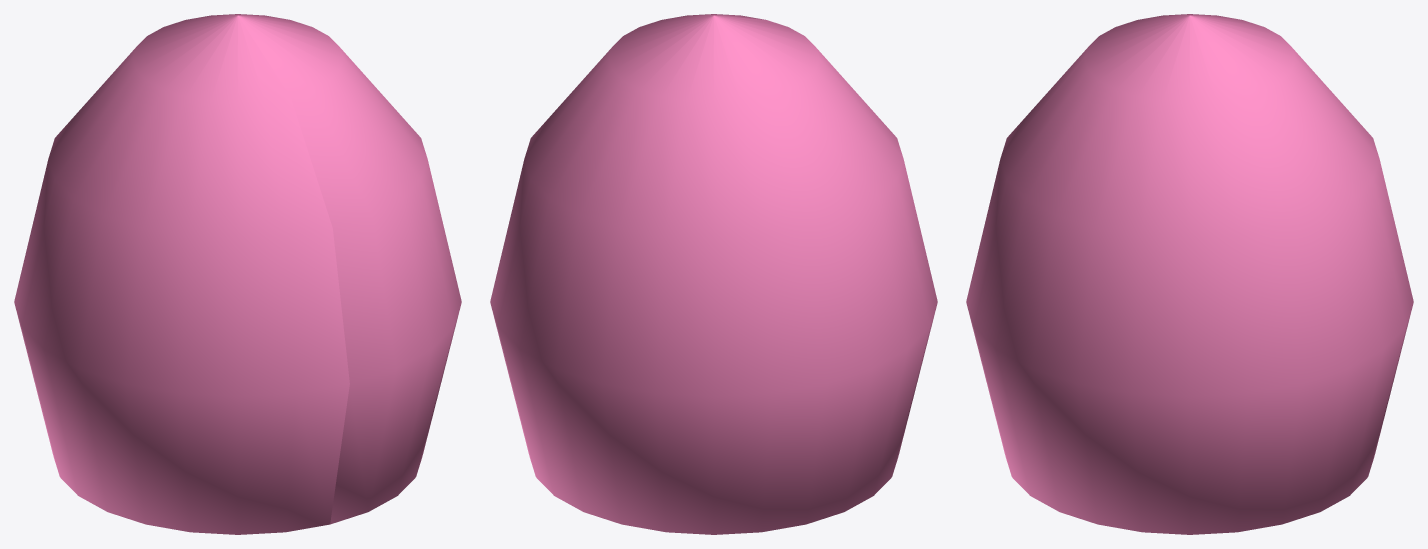
The model's file is prop-13-gumdrop.glb.
3 renders of one model, left to right at view 1: azimuth 30°, elevation 25°; view 2: azimuth 150°, elevation 25°; view 3: azimuth 270°, elevation 25°, orthographic.
Visible parts, largest first — view 1: gumdrop; view 2: gumdrop; view 3: gumdrop.
Part boxes in pixels (x1,y1,x2,y2): gumdrop: (14,14,461,534); gumdrop: (490,14,937,534); gumdrop: (966,14,1413,534).
Bounding box in the file's own units: 1.7 × 2 × 1.7.
